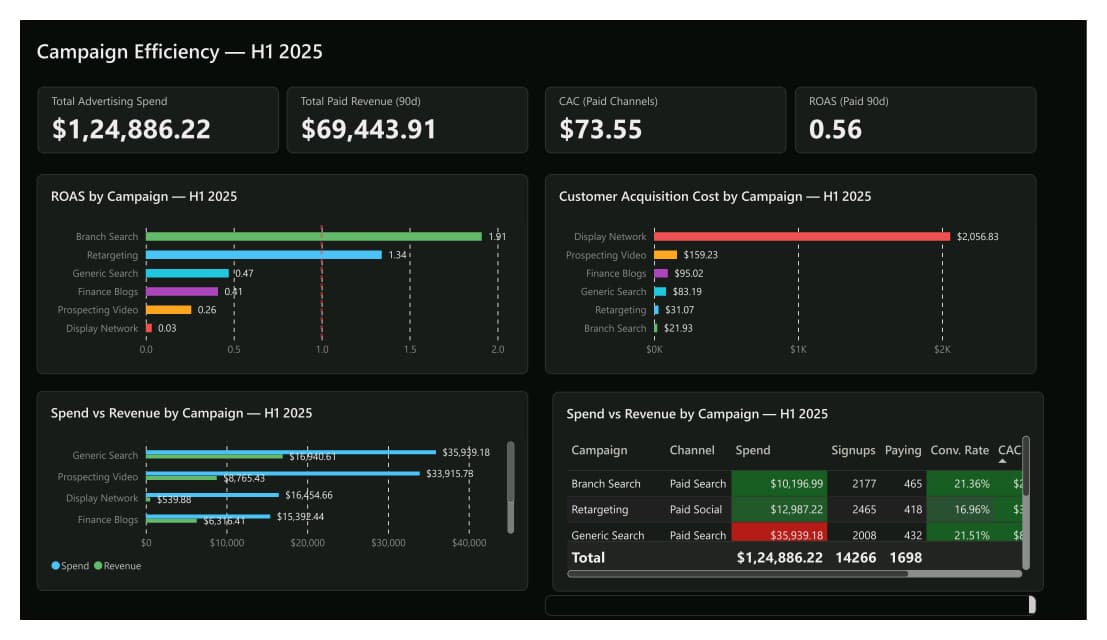

The page's visual inventory and layout, read from the dashboard file:
{"tool":"powerbi","page":{"name":"Campaign Efficiency","canvas":[1280,720],"ordinal":2},"visuals":[{"type":"textbox","box":[20,20,1240,40],"z":0},{"type":"textbox","box":[630,690,590.1,25],"z":1000},{"type":"cardVisual","title":"Total Advertising Spend","fields":{"Data":["_Measures.Total Advertising Spend"]},"box":[20.6,80,290,80],"z":2000},{"type":"cardVisual","title":"Total Paid Revenue (90d)","fields":{"Data":["_Measures.Total Paid Revenue (90d)"]},"box":[320,80,290,80],"z":3000},{"type":"cardVisual","title":"CAC (Paid Channels)","fields":{"Data":["_Measures.CAC (Paid Channels)"]},"box":[630,80,290,80],"z":4000},{"type":"cardVisual","title":"ROAS (Paid 90d)","fields":{"Data":["_Measures.ROAS (Paid 90d)"]},"box":[930,80,290,80],"z":5000},{"type":"clusteredBarChart","title":"ROAS by Campaign — H1 2025","fields":{"Category":["campaign_kpis.campaign"],"Y":["Sum(campaign_kpis.roas)"]},"box":[20,185,590,240],"z":6000},{"type":"clusteredBarChart","title":"Customer Acquisition Cost by Campaign — H1 2025","fields":{"Category":["campaign_kpis.campaign"],"Y":["Sum(campaign_kpis.cac)"]},"box":[630,185,590,240],"z":7000},{"type":"clusteredBarChart","title":"Spend vs Revenue by Campaign — H1 2025","fields":{"Category":["campaign_kpis.campaign"],"Y":["Sum(campaign_kpis.spend)","Sum(campaign_kpis.revenue)"]},"box":[20,445,590,240],"z":8000},{"type":"tableEx","title":"Spend vs Revenue by Campaign — H1 2025","fields":{"Values":["campaign_kpis.campaign","campaign_kpis.channel_key","Sum(campaign_kpis.spend)","Sum(campaign_kpis.signups)","Sum(campaign_kpis.paying)","campaign_kpis.cvr","campaign_kpis.cac","Sum(campaign_kpis.revenue)","campaign_kpis.roas"]},"box":[639.5,446,590,240],"z":9000}]}

Visuals, with their boxes in screenshot pixels (x1, y1, x2, y2), scaled from the page's 1280x720 canvas onto the 1107x640 screenshot:
textbox: pyautogui.locateOnScreen(17, 18, 1090, 53)
textbox: pyautogui.locateOnScreen(545, 613, 1055, 636)
"Total Advertising Spend" cardVisual: pyautogui.locateOnScreen(18, 71, 269, 142)
"Total Paid Revenue (90d)" cardVisual: pyautogui.locateOnScreen(277, 71, 528, 142)
"CAC (Paid Channels)" cardVisual: pyautogui.locateOnScreen(545, 71, 796, 142)
"ROAS (Paid 90d)" cardVisual: pyautogui.locateOnScreen(804, 71, 1055, 142)
"ROAS by Campaign — H1 2025" clusteredBarChart: pyautogui.locateOnScreen(17, 164, 528, 378)
"Customer Acquisition Cost by Campaign — H1 2025" clusteredBarChart: pyautogui.locateOnScreen(545, 164, 1055, 378)
"Spend vs Revenue by Campaign — H1 2025" clusteredBarChart: pyautogui.locateOnScreen(17, 396, 528, 609)
"Spend vs Revenue by Campaign — H1 2025" tableEx: pyautogui.locateOnScreen(553, 396, 1063, 610)
